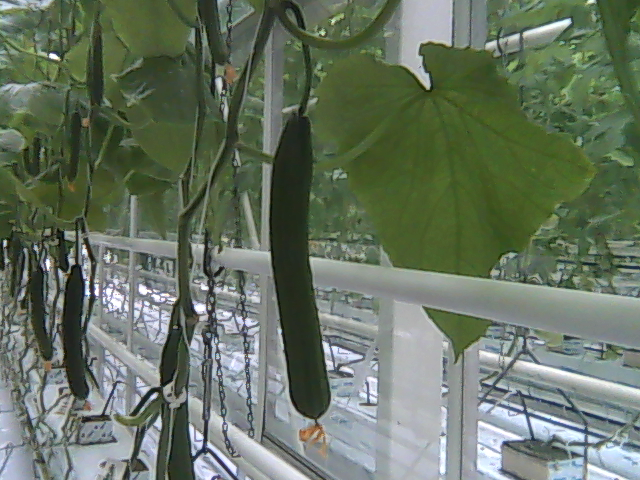concombre: (263, 102, 336, 454)
